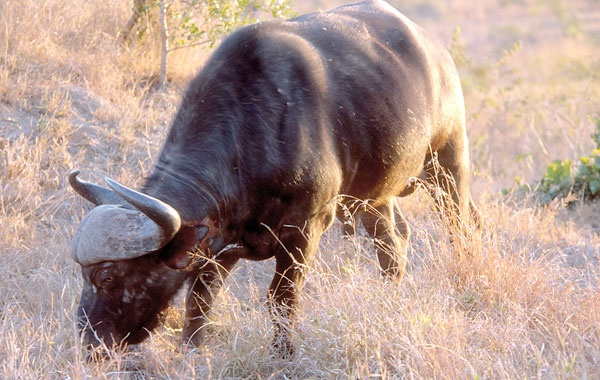buffalo: (67, 2, 484, 361)
